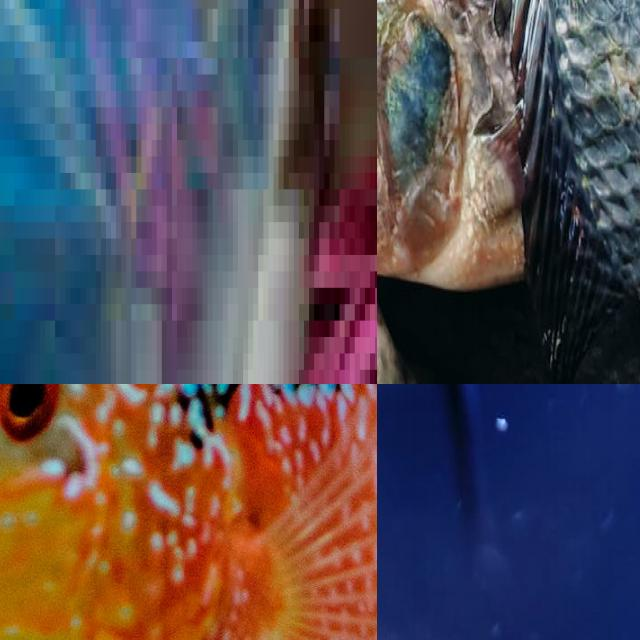fish: (0, 0, 377, 384), (377, 0, 640, 289), (0, 384, 288, 640)
